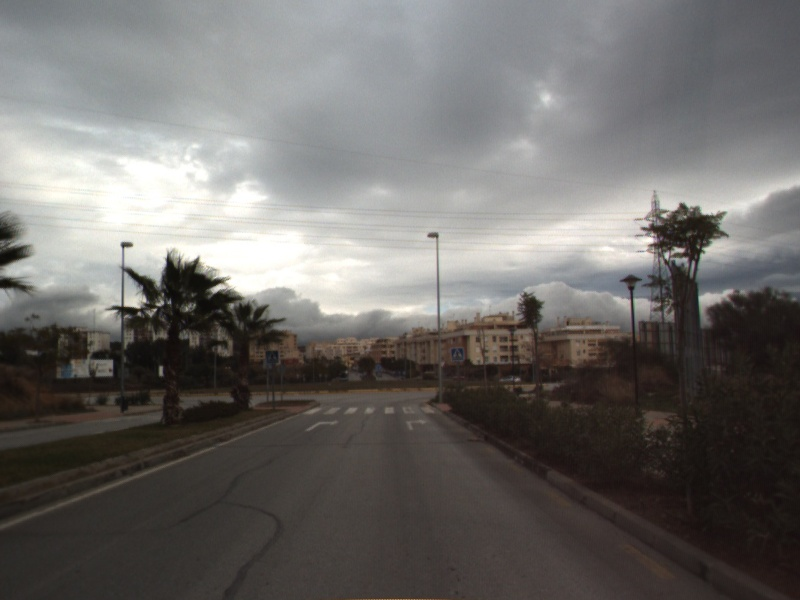RIGHT: (303, 417, 341, 433), (403, 416, 430, 432)
